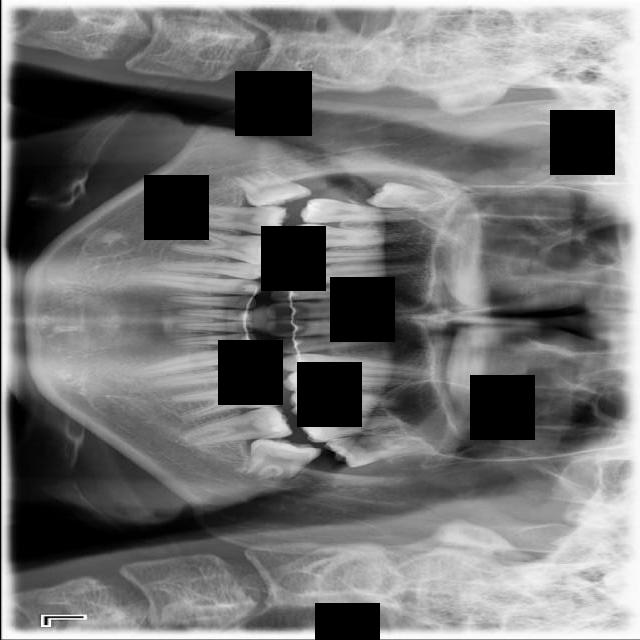3M ESPE Implant: (364, 181, 451, 208)
52: (298, 197, 348, 224)
73: (46, 602, 56, 611)
BioHorizons Implant: (296, 413, 416, 444)
BioLife Implant: (322, 425, 437, 472)
Biomet 3i Implant: (242, 435, 320, 484)
Blue Sky Bio Implant: (176, 404, 293, 449)
Caries: (298, 196, 413, 224)
Implant: (174, 200, 290, 237)
Keystone Dental Implant: (227, 162, 313, 214)
